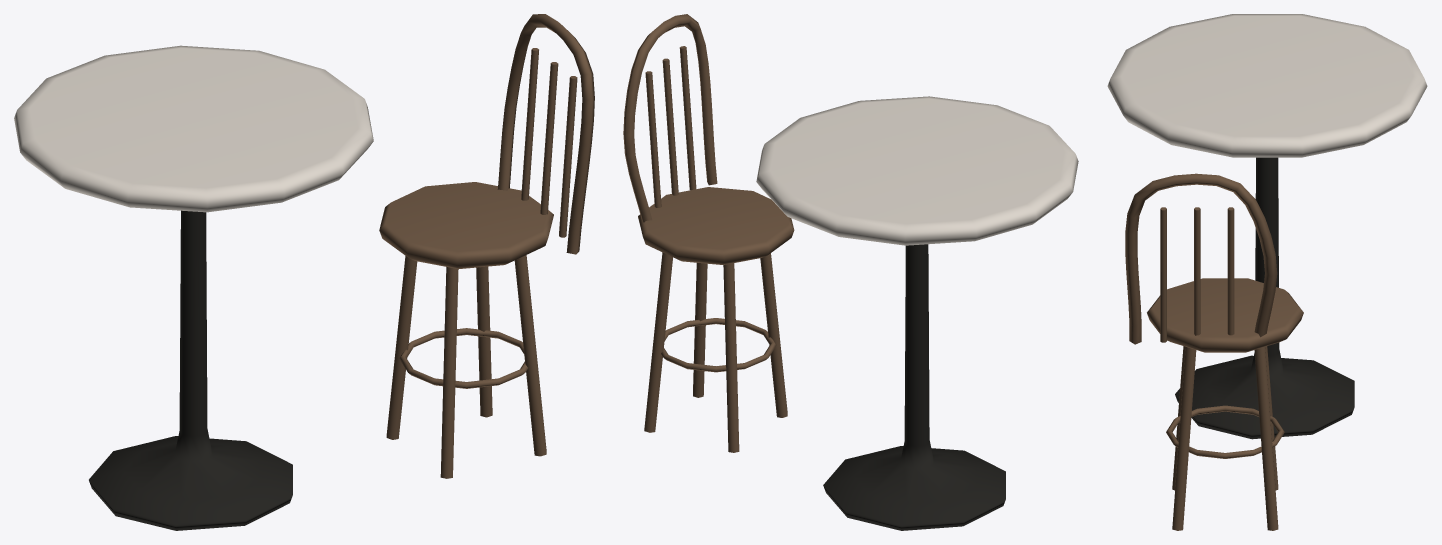
Rendered from bistro-set.glb.
3 views of the same model, side by side, from view 1: azimuth 30°, elevation 25°; view 2: azimuth 150°, elevation 25°; view 3: azimuth 270°, elevation 25° (orthographic). The views are drawn at different scales.
Parts seen in each view (by area): view 1: bistro-set-00, bistro-set-01, bistro-set-02, bistro-set-08, bistro-set-04, bistro-set-03, bistro-set-05, bistro-set-07, bistro-set-06, bistro-set-11, bistro-set-10, bistro-set-09; view 2: bistro-set-00, bistro-set-01, bistro-set-02, bistro-set-08, bistro-set-05, bistro-set-06, bistro-set-04, bistro-set-07, bistro-set-03, bistro-set-11, bistro-set-10, bistro-set-09; view 3: bistro-set-00, bistro-set-01, bistro-set-02, bistro-set-08, bistro-set-06, bistro-set-03, bistro-set-07, bistro-set-09, bistro-set-11, bistro-set-10, bistro-set-05, bistro-set-04.
Boxes of the visible parts, x1,y1,x2,y2 form: bistro-set-00: (14,45,373,212); bistro-set-01: (89,210,292,530); bistro-set-02: (379,182,553,268); bistro-set-08: (497,14,594,254); bistro-set-04: (440,267,458,478); bistro-set-03: (514,255,546,456); bistro-set-05: (386,256,417,439); bistro-set-07: (399,328,527,388); bistro-set-06: (476,266,492,417); bistro-set-11: (559,76,577,237); bistro-set-10: (540,62,558,214); bistro-set-09: (521,48,538,200); bistro-set-00: (756,96,1078,245); bistro-set-01: (823,244,1005,530); bistro-set-02: (638,187,794,264); bistro-set-08: (623,14,717,222); bistro-set-05: (723,263,739,452); bistro-set-06: (644,252,672,432); bistro-set-04: (760,253,787,417); bistro-set-07: (661,318,776,372); bistro-set-03: (693,263,707,397); bistro-set-11: (679,46,696,190); bistro-set-10: (662,58,678,195); bistro-set-09: (645,71,661,207); bistro-set-00: (1107,14,1427,157); bistro-set-01: (1175,157,1354,439); bistro-set-02: (1147,278,1303,352); bistro-set-08: (1125,173,1277,344); bistro-set-06: (1254,347,1278,530); bistro-set-03: (1172,347,1196,530); bistro-set-07: (1166,405,1284,458); bistro-set-09: (1227,207,1234,335); bistro-set-11: (1160,207,1166,342); bistro-set-10: (1194,207,1200,335); bistro-set-05: (1265,346,1278,490); bistro-set-04: (1172,346,1185,490).
Bounding box in the file's own units: 1.03 × 0.8525 × 0.6726.
